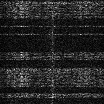wifi: (1, 68, 104, 87), (1, 1, 104, 19), (1, 51, 104, 59), (1, 92, 104, 98), (1, 25, 104, 27), (1, 32, 104, 34)
